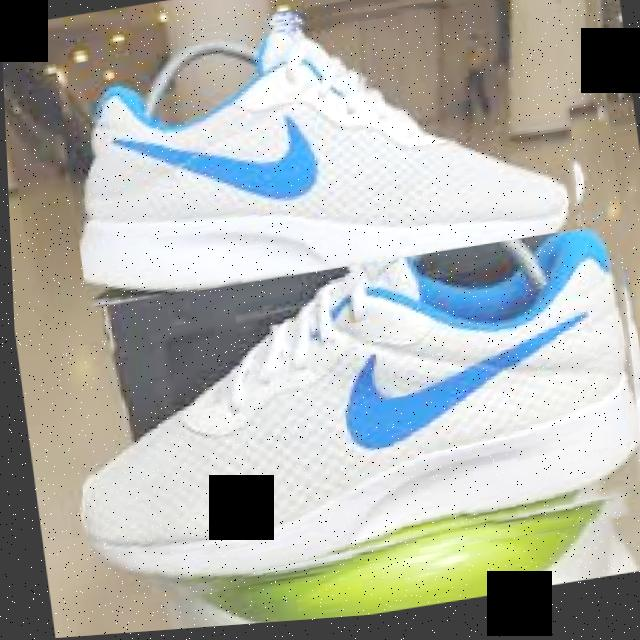shoe: (15, 0, 640, 618), (54, 230, 640, 609), (52, 0, 591, 316)
